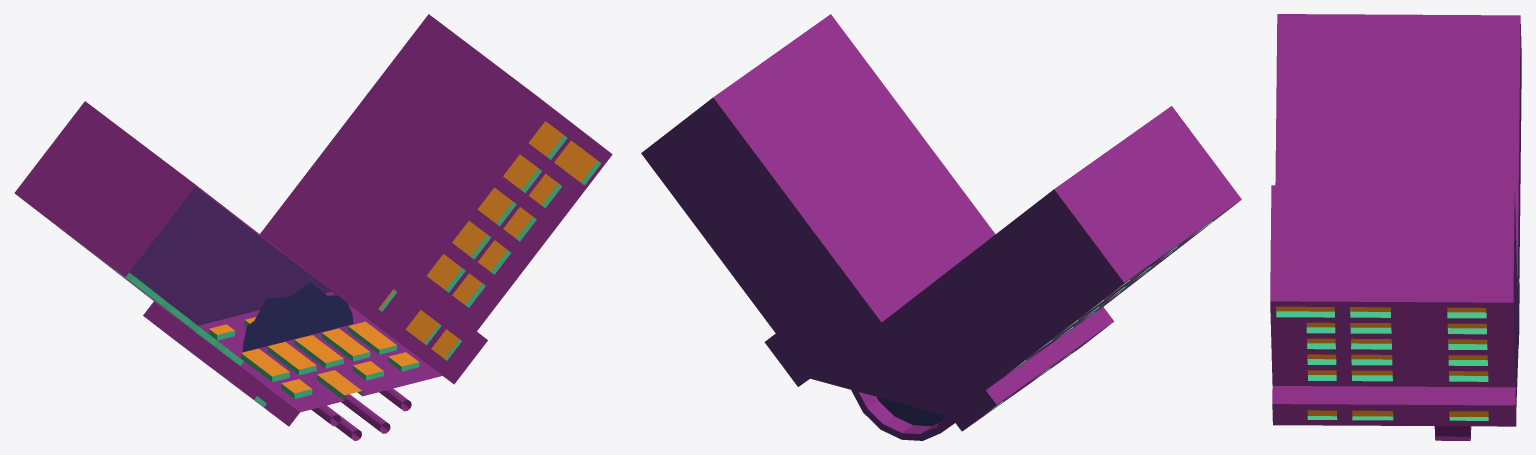
File: Gmach Powiatowego Związku Samorządowego Tier 3.fbx
The picture shows the model from 3 angles, left to right: view 1: azimuth 30°, elevation 25°; view 2: azimuth 150°, elevation 25°; view 3: azimuth 270°, elevation 25°; orthographic projection. The views are drawn at different scales.
Parts seen in each view (by area): view 1: Gmach Powiatowego Związku SamorządowegoV2; view 2: Gmach Powiatowego Związku SamorządowegoV2; view 3: Gmach Powiatowego Związku SamorządowegoV2.
Part boxes in pixels (box(x1,y1,x2,y2)): Gmach Powiatowego Związku SamorządowegoV2: box(14, 14, 612, 440); Gmach Powiatowego Związku SamorządowegoV2: box(641, 14, 1241, 440); Gmach Powiatowego Związku SamorządowegoV2: box(1270, 14, 1521, 440).
Bounding box in the file's own units: 4.55 × 2.81 × 1.91.
